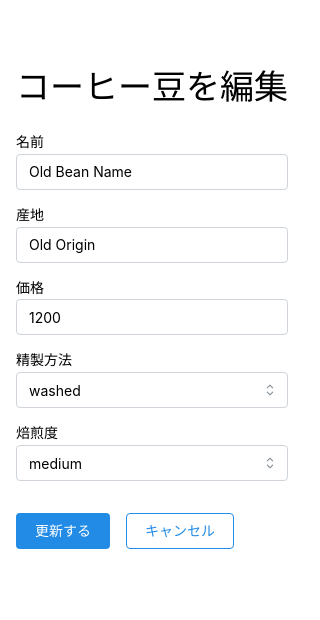
Scenario: EditBeanPage › shows an error message if submission fails
Expected: the field showing "Old Bean Name" is shown, [16,154,288,190]
Click the button "更新する".
click(63, 531)  # box [16,513,110,549]
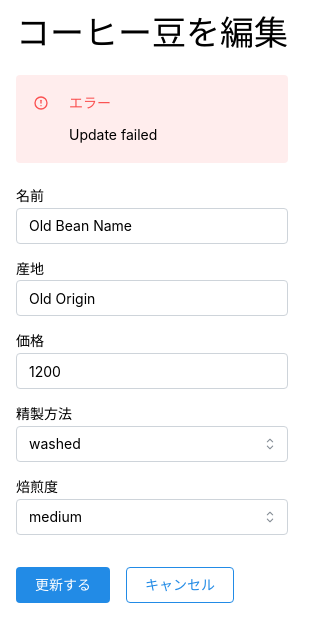
Result: the text "エラー" is shown at [69,92,111,114]
Result: the text "Update failed" is shown at [69,126,157,143]
